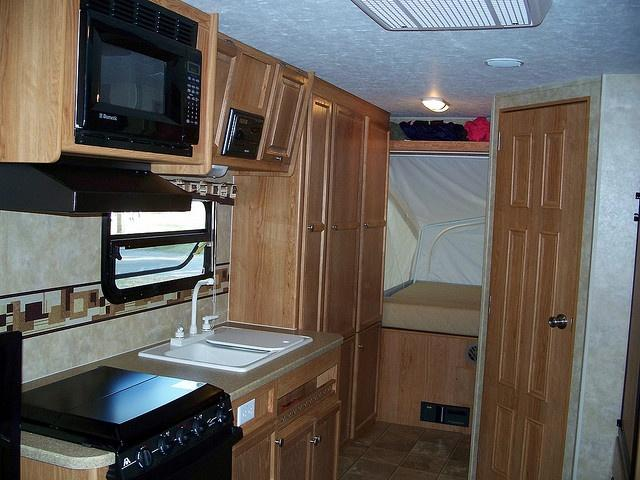Lemari: (296, 70, 390, 451)
